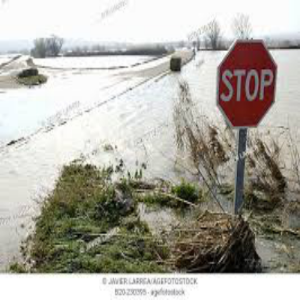STOP_SIGN: (216, 39, 278, 128)
